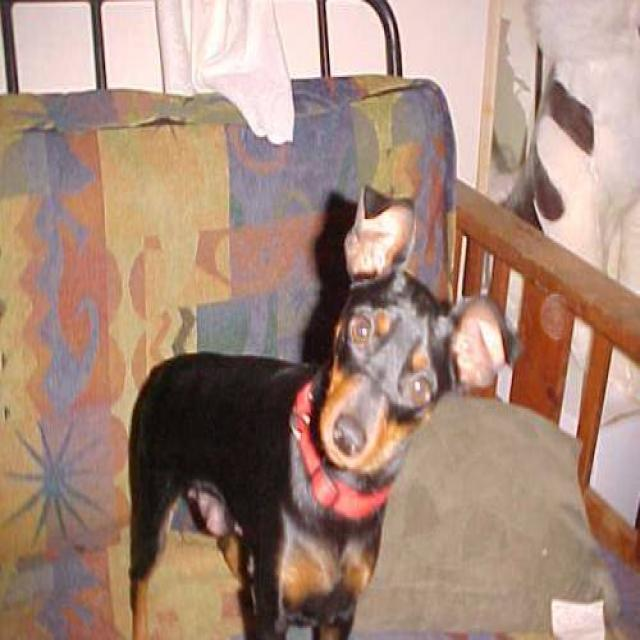dog: (125, 183, 521, 638)
